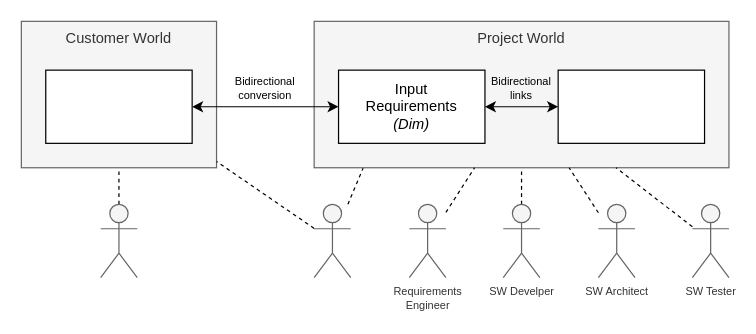
Image size: 756x334. Some labels were removed from this diagram. The centre of each missing label's shape, as x and y in pixels:
"Customer" belongs at (118,240).
"Customer Requirements (any tool)" belongs at (118,106).
"Requirements Manager" belongs at (332,240).
"Software Requirements (Dim)" belongs at (631,106).
